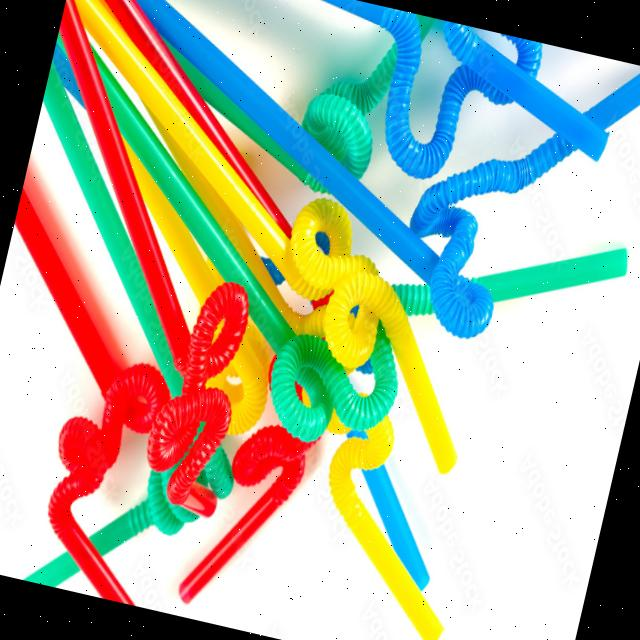plastic: (94, 0, 640, 233)
